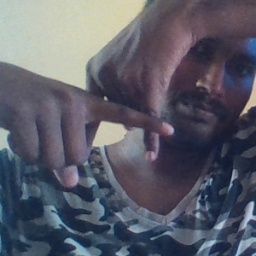H: (56, 54, 183, 171)
